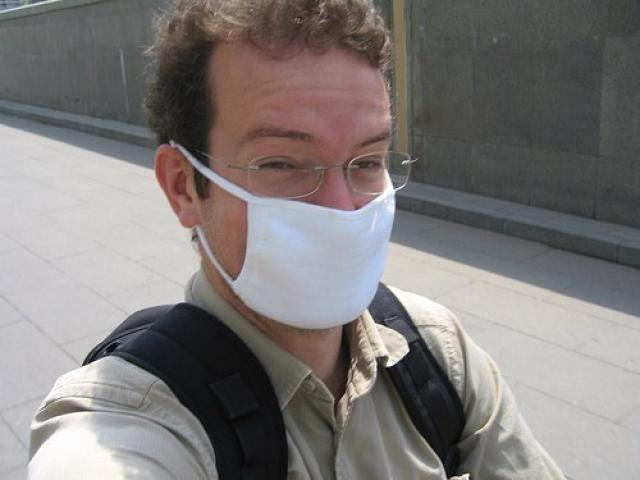Wearing Mask: (124, 0, 470, 357)
